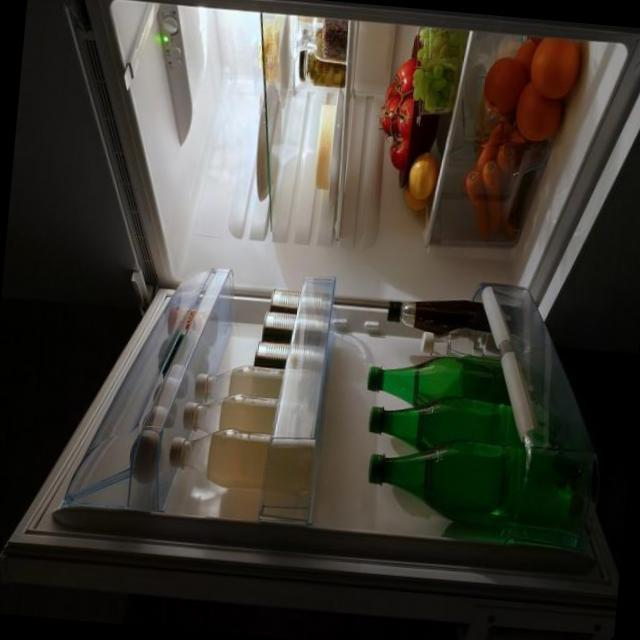Huevos: (115, 364, 191, 490)
Queso: (305, 98, 341, 194)
